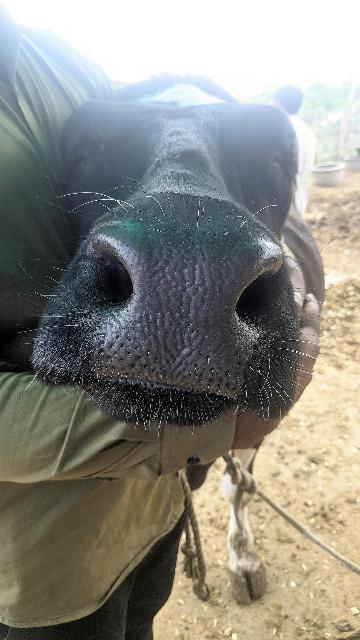Muzzle: (118, 228, 236, 388)
